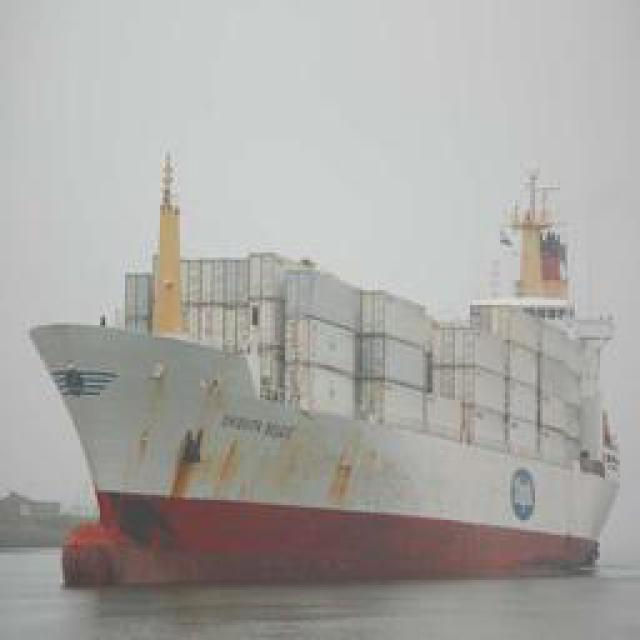Ship: (32, 286, 622, 589)
